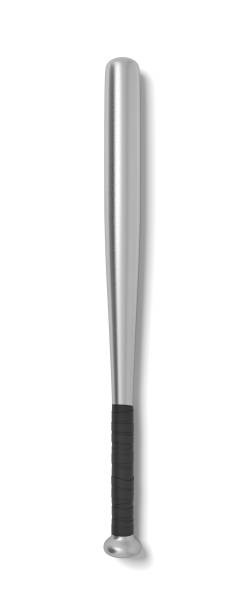bita: (92, 53, 143, 548)
